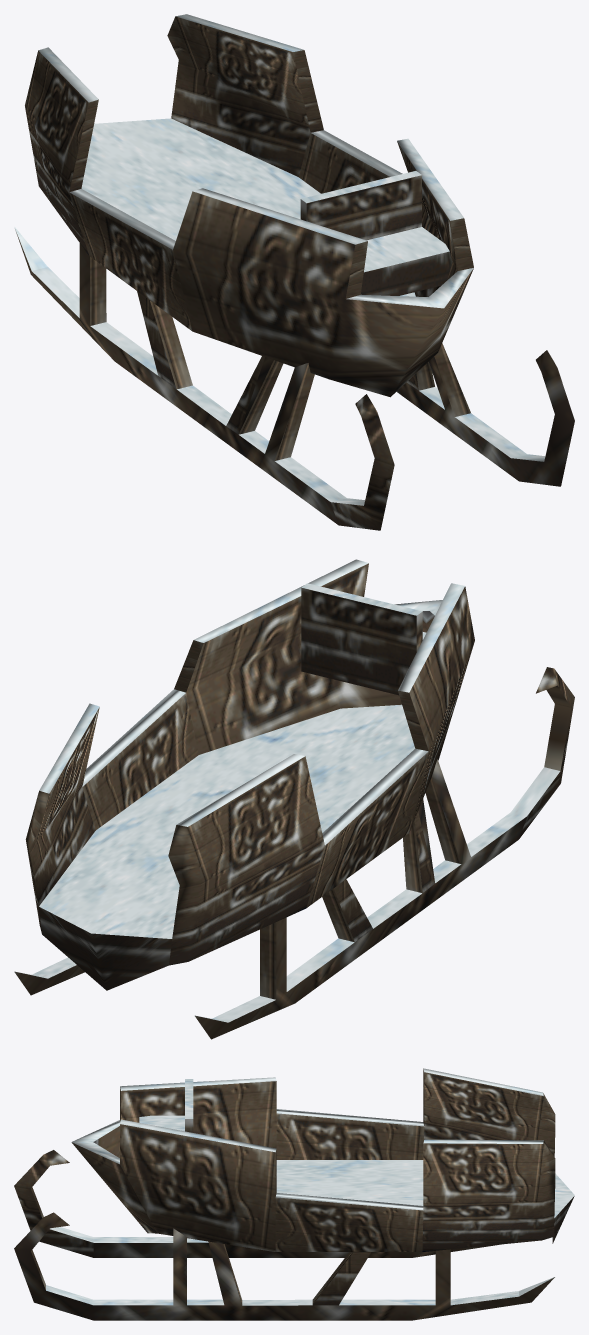
3 views of the same model, one above another, from view 1: azimuth 30°, elevation 25°; view 2: azimuth 150°, elevation 25°; view 3: azimuth 270°, elevation 25° (orthographic). The views are drawn at different scales.
Visible parts, largest first — view 1: a73; view 2: a73; view 3: a73.
Boxes of the visible parts, x1,y1,x2,y2 form: a73: (14, 14, 574, 530); a73: (14, 559, 574, 1039); a73: (14, 1068, 574, 1320).
Bounding box in the file's own units: 331 × 332 × 887.
